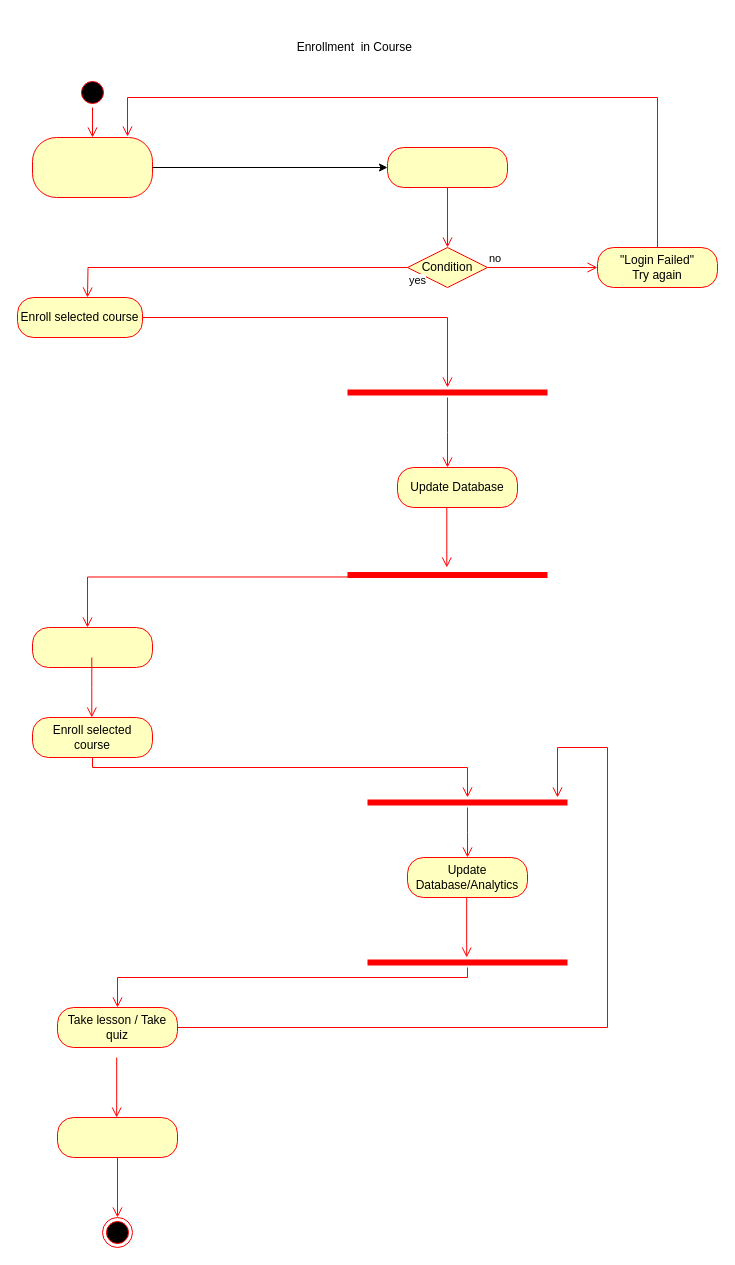
This 735x1265 diagram has some shape labels left out. The centre of each missing label's shape, as x and y in pixels:
"Browse Course" belongs at point 92,647.
"Get result" belongs at point 117,1137.
"Login" belongs at point 92,167.
"Verify Login" belongs at point 447,167.
